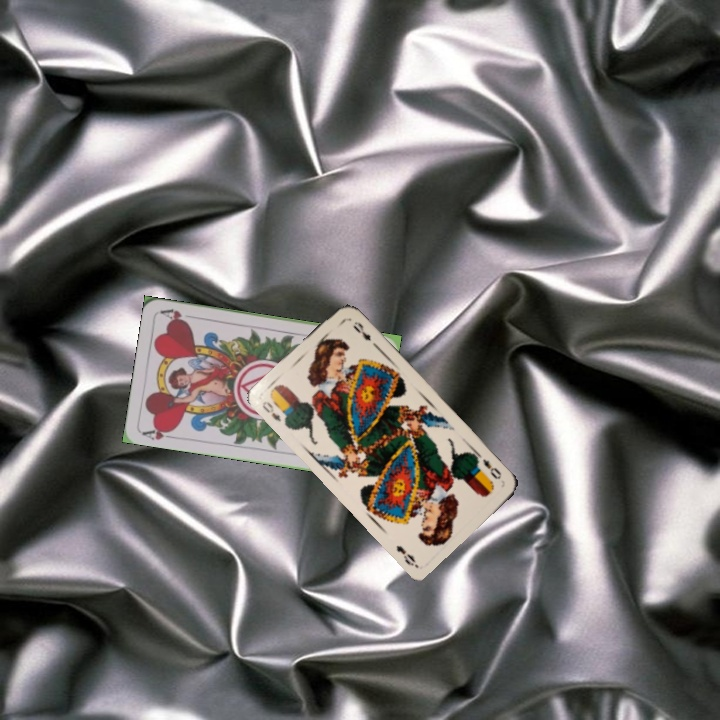EO: (258, 397, 284, 424), (479, 455, 504, 482)
HA: (138, 422, 179, 442)
